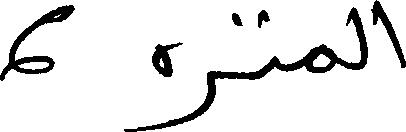X: (0, 0, 72, 85), (152, 37, 180, 131), (374, 0, 405, 72), (185, 66, 216, 126), (307, 39, 336, 77), (351, 2, 365, 74), (268, 11, 278, 76)
